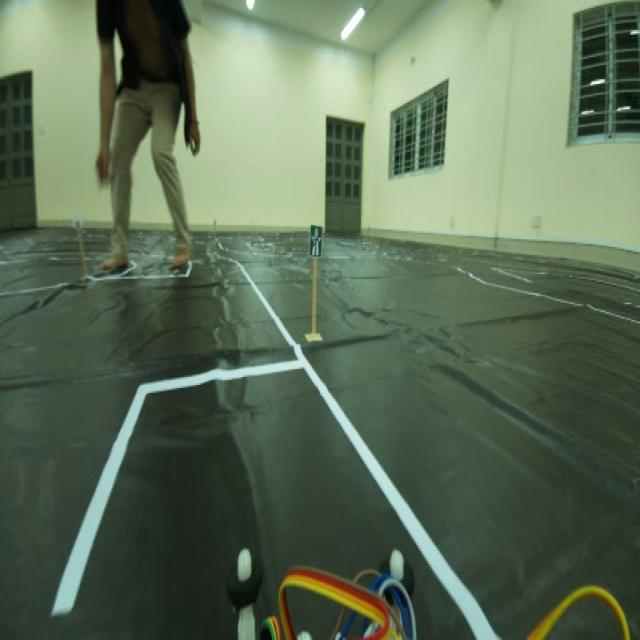highway_exit: (302, 225, 328, 266)
